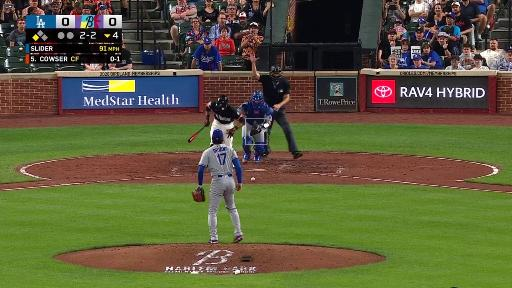pitcher: (192, 128, 246, 244)
